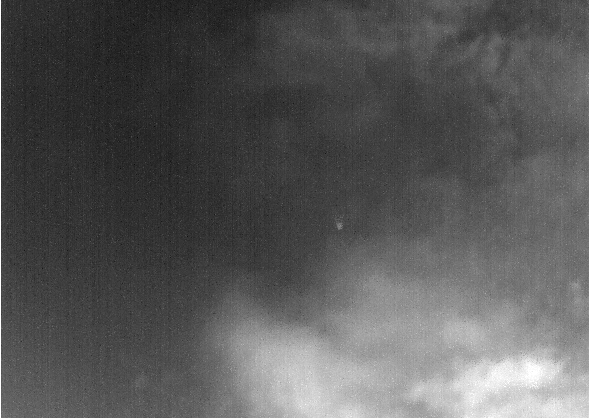dim target: (335, 221, 344, 231)
